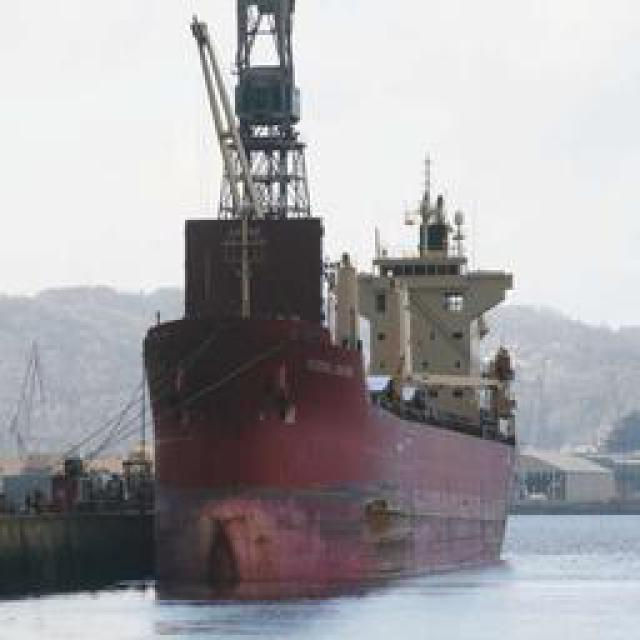Ship: (110, 70, 534, 591)
